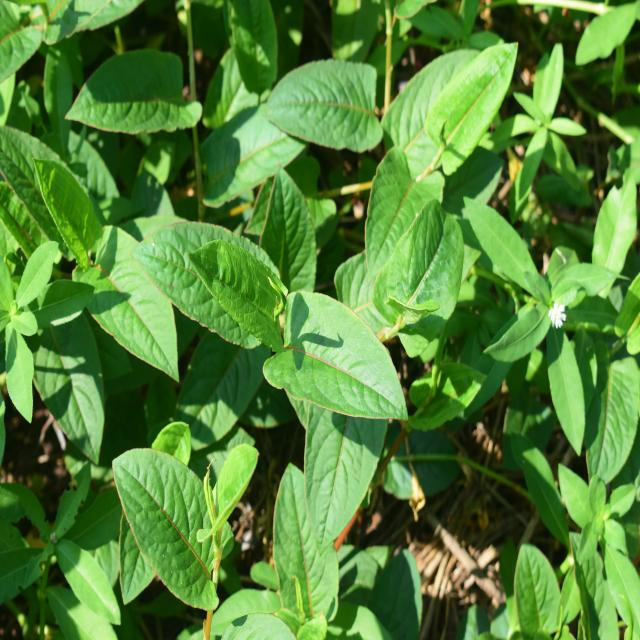Chinese_knotweed: (160, 180, 438, 491)
